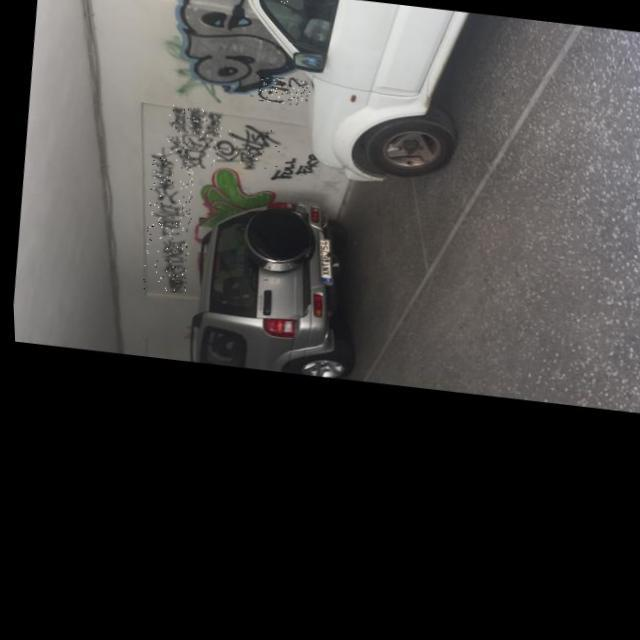-: (134, 146, 200, 294), (162, 34, 226, 104), (210, 122, 282, 174), (161, 128, 216, 170), (166, 104, 223, 138), (267, 150, 318, 186), (256, 75, 310, 107), (264, 0, 289, 4)
